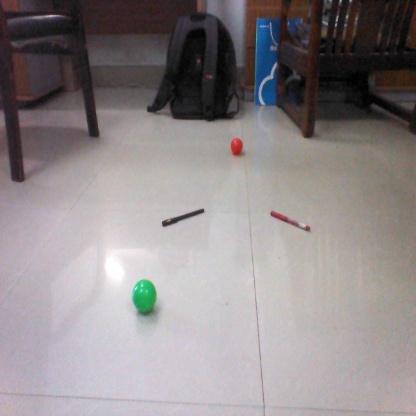ball: (131, 277, 158, 312), (229, 138, 244, 155)
pen: (162, 204, 208, 229), (268, 209, 310, 231)
